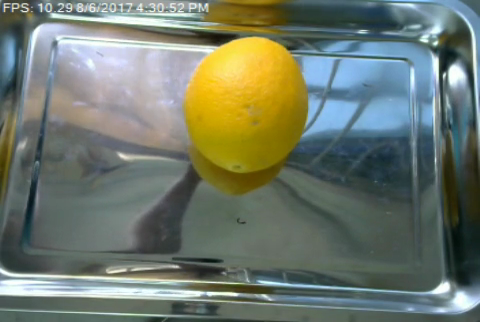Orange: (182, 36, 309, 173)
